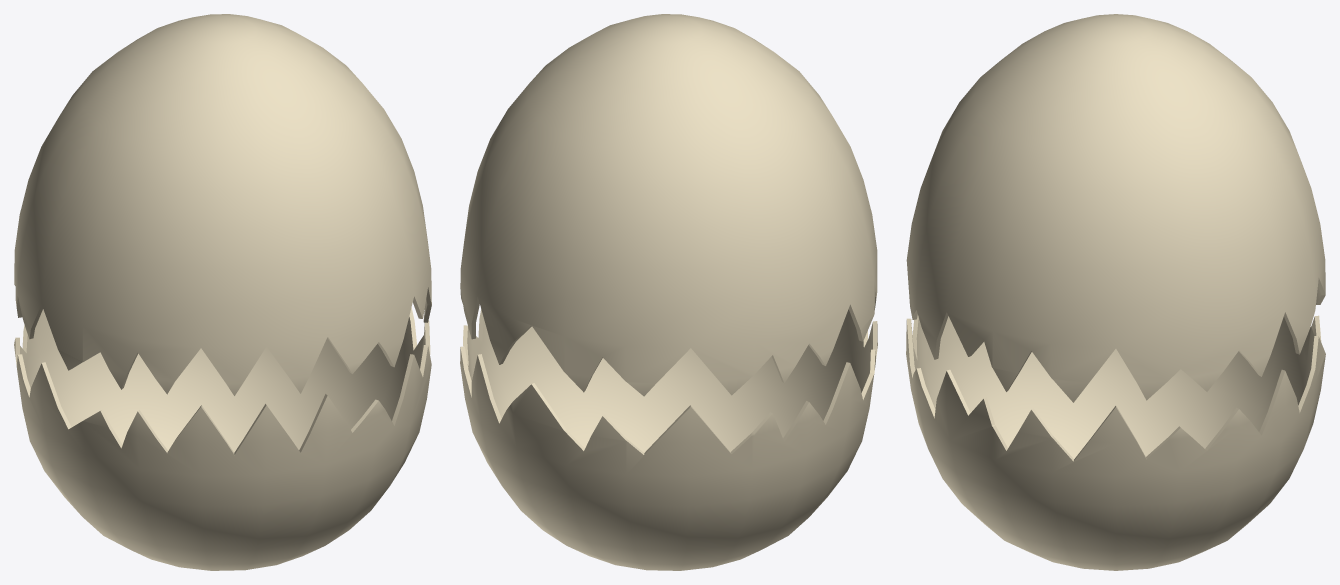
Rendered from EGG.fbx.
3 renders of one model, left to right at view 1: azimuth 30°, elevation 25°; view 2: azimuth 150°, elevation 25°; view 3: azimuth 270°, elevation 25°, orthographic.
Parts seen in each view (by area): view 1: pSphere2, pSphere1; view 2: pSphere2, pSphere1; view 3: pSphere2, pSphere1.
Boxes of the visible parts, x1,y1,x2,y2 form: pSphere2: (14, 14, 431, 395); pSphere1: (14, 307, 431, 570); pSphere2: (460, 14, 877, 396); pSphere1: (460, 309, 877, 570); pSphere2: (906, 14, 1325, 402); pSphere1: (906, 315, 1325, 570).
Bounding box in the file's own units: 3.77 × 5.18 × 3.77.
